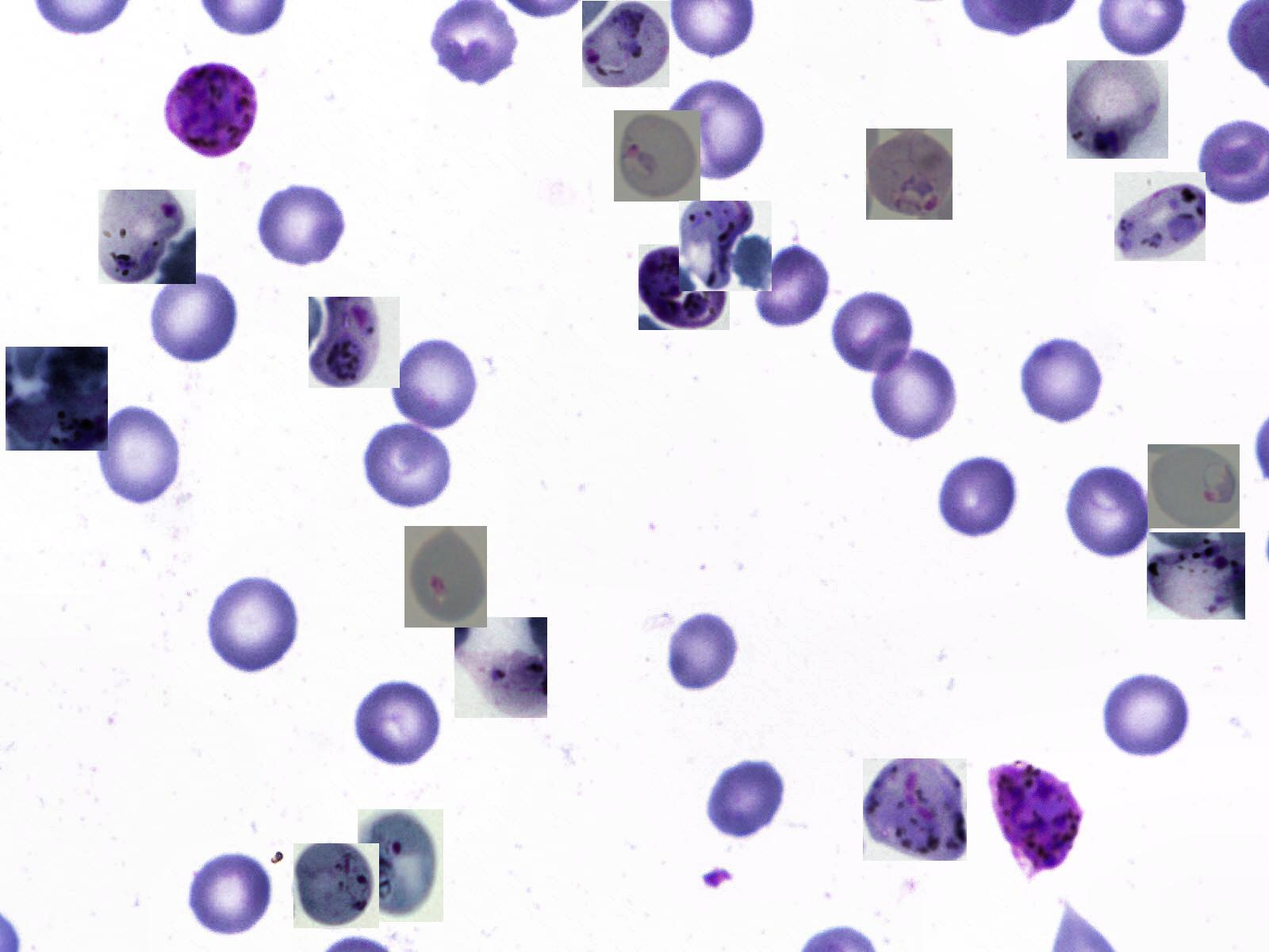Infected: (987, 762, 1082, 877), (863, 758, 967, 861), (6, 347, 108, 451), (1067, 60, 1168, 159), (164, 60, 261, 160), (358, 809, 443, 922), (454, 618, 547, 719), (98, 190, 196, 284), (1147, 532, 1245, 620), (404, 526, 487, 628), (680, 201, 773, 291), (309, 297, 400, 388), (1114, 172, 1206, 261), (866, 129, 953, 220), (638, 244, 730, 330), (614, 110, 700, 202), (1148, 444, 1240, 528), (582, 1, 669, 87), (293, 843, 379, 928)
Uninfected: (670, 79, 767, 185), (865, 343, 959, 443), (205, 577, 299, 674), (1101, 665, 1195, 761), (97, 405, 181, 506), (1064, 463, 1152, 558), (149, 272, 239, 364), (390, 338, 480, 429), (350, 677, 443, 765), (257, 182, 348, 269), (936, 450, 1022, 540), (363, 422, 450, 510), (1022, 335, 1106, 426), (186, 849, 272, 936), (830, 290, 915, 374), (752, 244, 829, 330), (665, 611, 742, 693), (707, 759, 785, 839)
